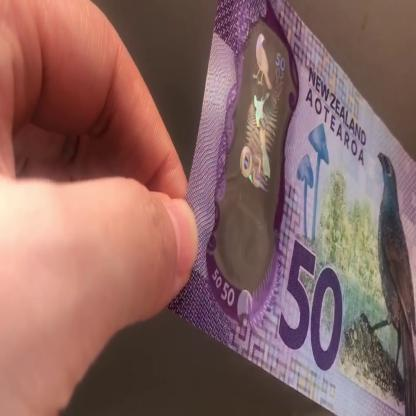50B: (222, 30, 288, 278)
